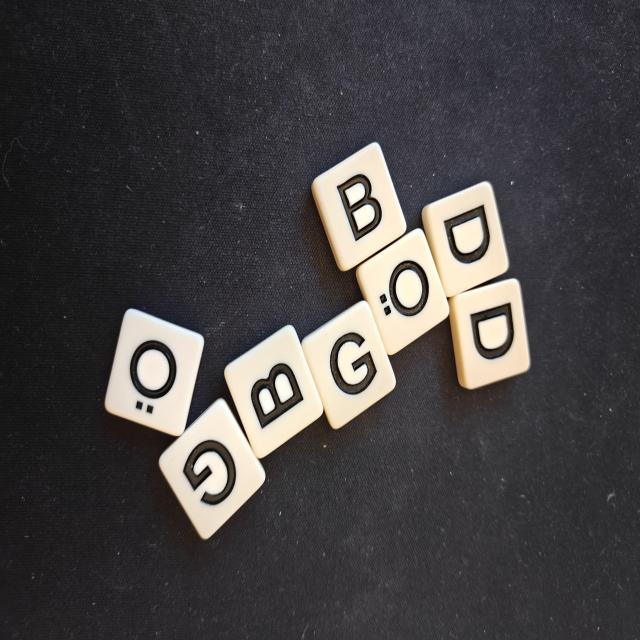b: (224, 325, 323, 458), (312, 142, 406, 271)
d: (422, 181, 509, 297), (449, 279, 530, 389)
g: (159, 399, 265, 539), (301, 301, 395, 429)
o_dot: (105, 309, 204, 436), (356, 229, 449, 354)
